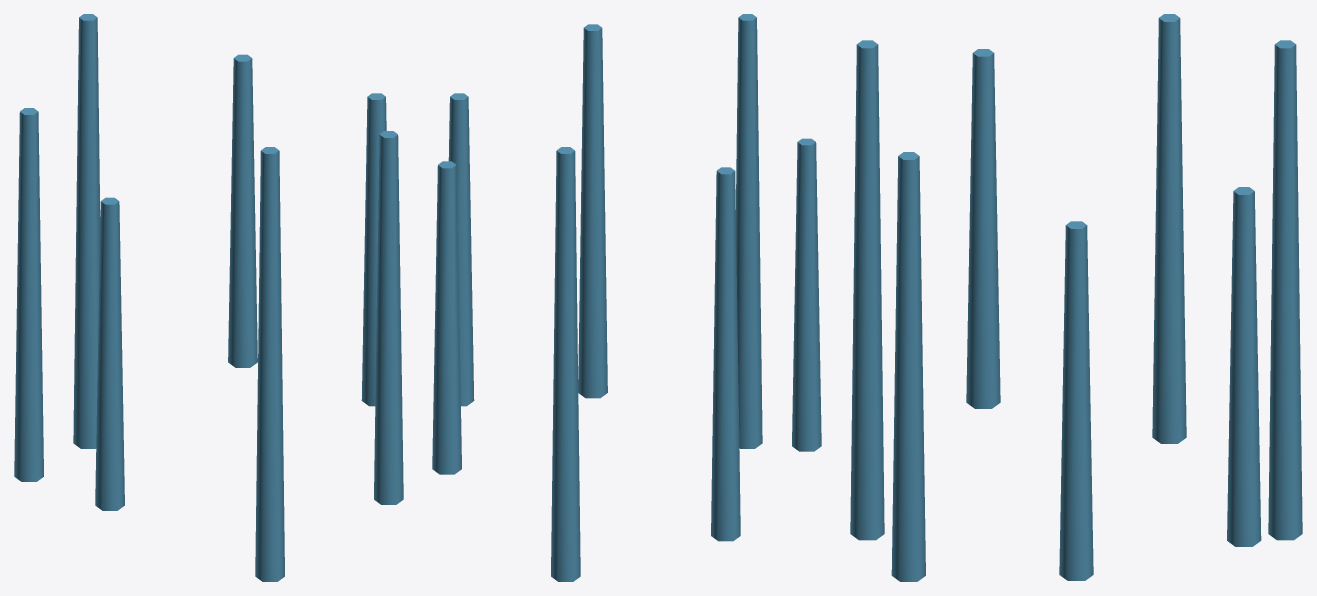
The model's file is wind_grass_patch.glb.
3 renders of one model, left to right at view 1: azimuth 30°, elevation 25°; view 2: azimuth 150°, elevation 25°; view 3: azimuth 270°, elevation 25°, orthographic. The views are drawn at different scales.
Visible parts, largest first — view 1: reed_2, reed_5, reed_1, reed_4, reed_3, reed_6, reed_0; view 2: reed_5, reed_2, reed_4, reed_1, reed_6, reed_3, reed_0; view 3: reed_2, reed_5, reed_4, reed_1, reed_3, reed_0, reed_6.
Boxes of the visible parts, x1=… form: reed_2: x1=255, y1=147, x2=284, y2=581; reed_5: x1=73, y1=14, x2=100, y2=448; reed_1: x1=374, y1=131, x2=403, y2=504; reed_4: x1=14, y1=108, x2=43, y2=481; reed_3: x1=95, y1=197, x2=124, y2=510; reed_6: x1=228, y1=54, x2=257, y2=367; reed_0: x1=361, y1=93, x2=386, y2=406; reed_5: x1=551, y1=147, x2=580, y2=581; reed_2: x1=735, y1=14, x2=762, y2=448; reed_4: x1=711, y1=167, x2=740, y2=541; reed_1: x1=578, y1=24, x2=607, y2=398; reed_6: x1=432, y1=161, x2=461, y2=474; reed_3: x1=792, y1=138, x2=821, y2=451; reed_0: x1=448, y1=93, x2=474, y2=406; reed_2: x1=850, y1=40, x2=884, y2=540; reed_5: x1=1268, y1=40, x2=1302, y2=540; reed_4: x1=1152, y1=14, x2=1186, y2=443; reed_1: x1=891, y1=152, x2=925, y2=581; reed_3: x1=966, y1=49, x2=1000, y2=408; reed_0: x1=1059, y1=221, x2=1093, y2=580; reed_6: x1=1227, y1=187, x2=1261, y2=546.
Size of what is drawn, in the model's own units: 1.02 by 1.26 by 1.05.
